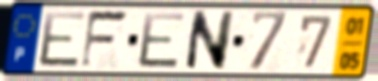7: (248, 10, 291, 74), (299, 13, 333, 71)
E: (136, 10, 188, 71), (37, 9, 89, 70)
F: (77, 8, 131, 72)
N: (182, 9, 237, 73)
